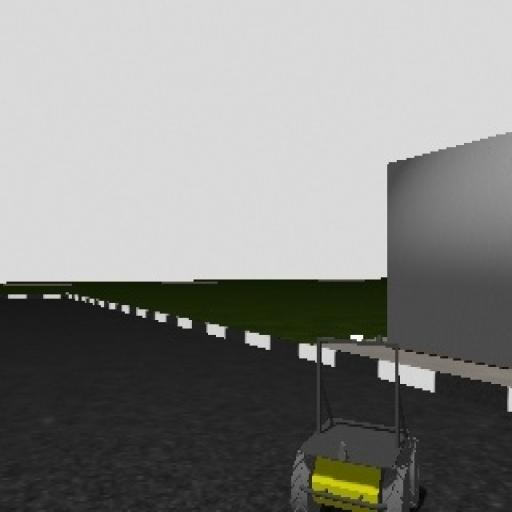huskya200: (289, 330, 421, 512)
